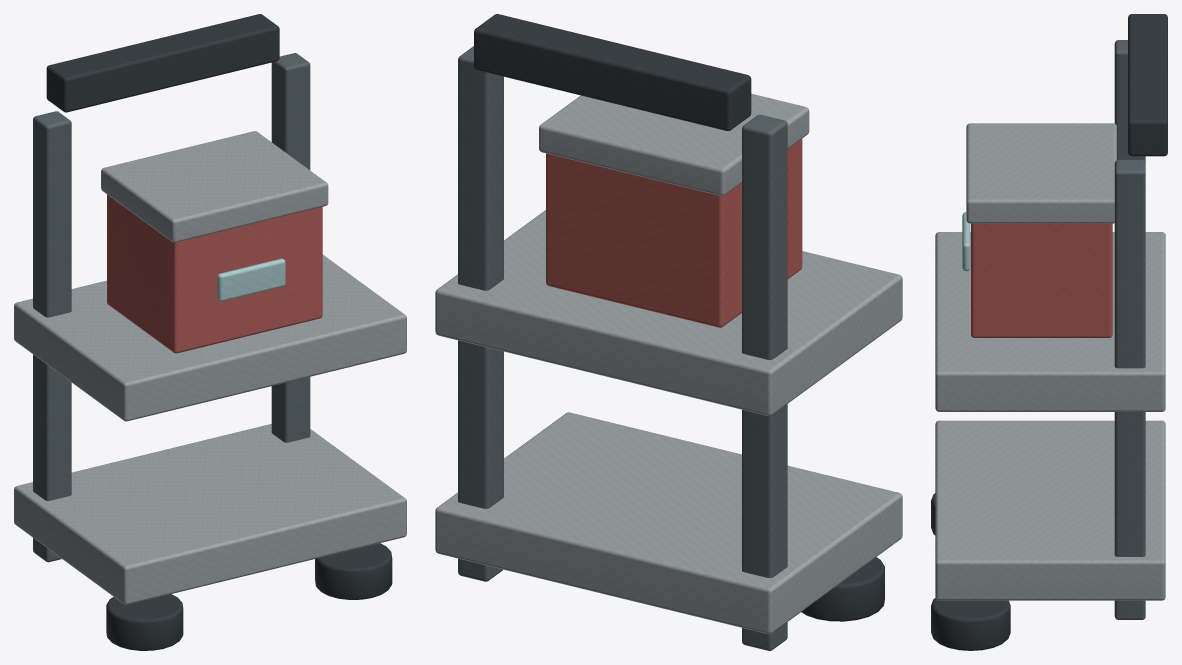
File: ToolCart.fbx
3 renders of one model, left to right at view 1: azimuth 30°, elevation 25°; view 2: azimuth 150°, elevation 25°; view 3: azimuth 270°, elevation 25°, orthographic. The views are drawn at different scales.
Visible parts, largest first — view 1: ToolCart_Mesh; view 2: ToolCart_Mesh; view 3: ToolCart_Mesh.
Part boxes in pixels (bbox=[...]): ToolCart_Mesh: bbox=[14, 14, 406, 650]; ToolCart_Mesh: bbox=[435, 14, 902, 650]; ToolCart_Mesh: bbox=[931, 14, 1167, 650].
Bounding box in the file's own units: 76 × 128 × 53.5.
Materials: 5 (5 with a texture image).
